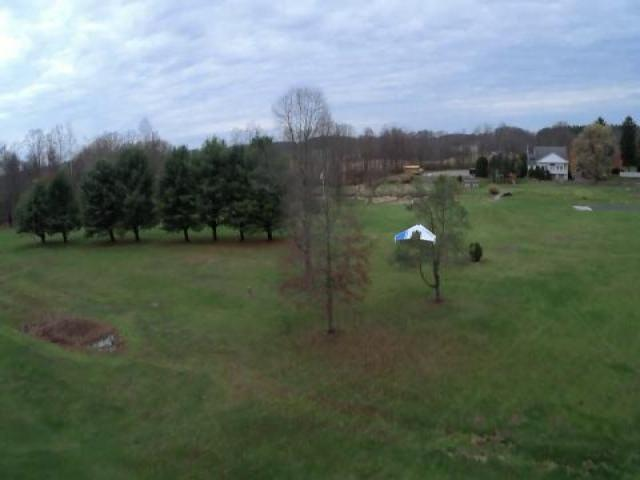flying wing: (392, 220, 439, 248)
